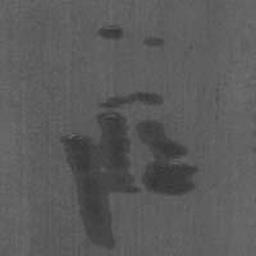Oil spot: (59, 90, 201, 251), (96, 23, 125, 42), (141, 35, 168, 49)
